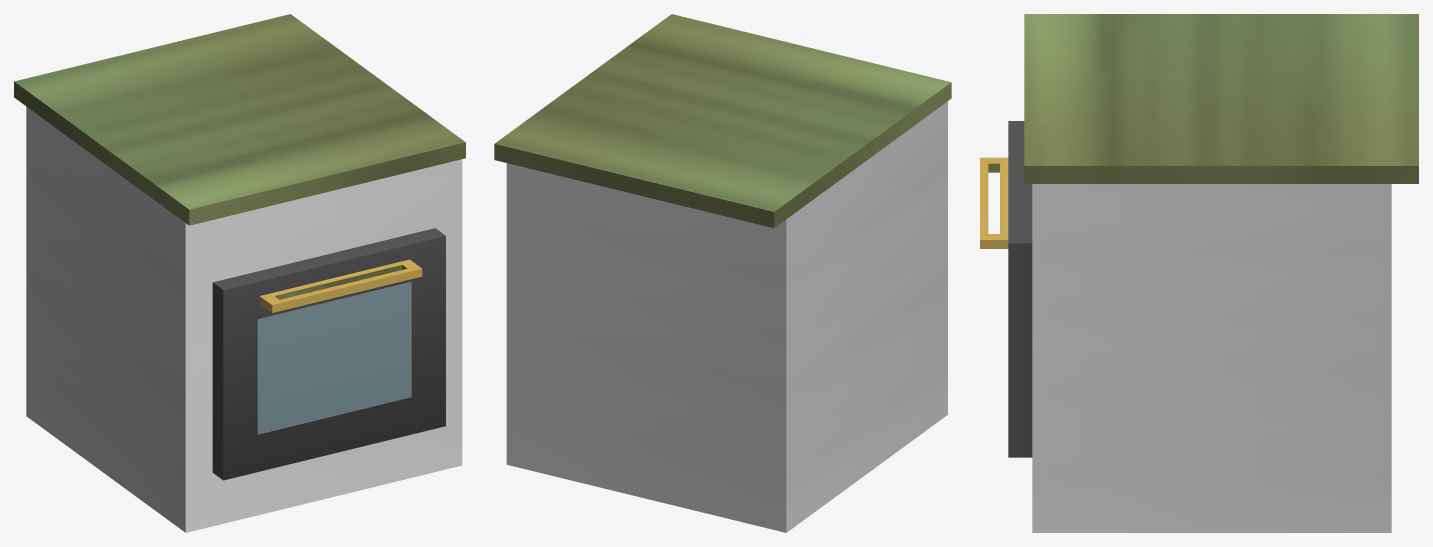
File: sm_worktop_Oven_007x007x007_a.fbx
The picture shows the model from 3 angles, left to right: view 1: azimuth 30°, elevation 25°; view 2: azimuth 150°, elevation 25°; view 3: azimuth 270°, elevation 25°; orthographic projection. The views are drawn at different scales.
Parts seen in each view (by area): view 1: sm_worktop_Oven_007x007x007_a; view 2: sm_worktop_Oven_007x007x007_a; view 3: sm_worktop_Oven_007x007x007_a.
Boxes of the visible parts, x1,y1,x2,y2 form: sm_worktop_Oven_007x007x007_a: [14, 14, 465, 532]; sm_worktop_Oven_007x007x007_a: [494, 14, 951, 532]; sm_worktop_Oven_007x007x007_a: [980, 14, 1418, 532].
Size of the model in its own units: 70 by 78.85 by 85.45.
